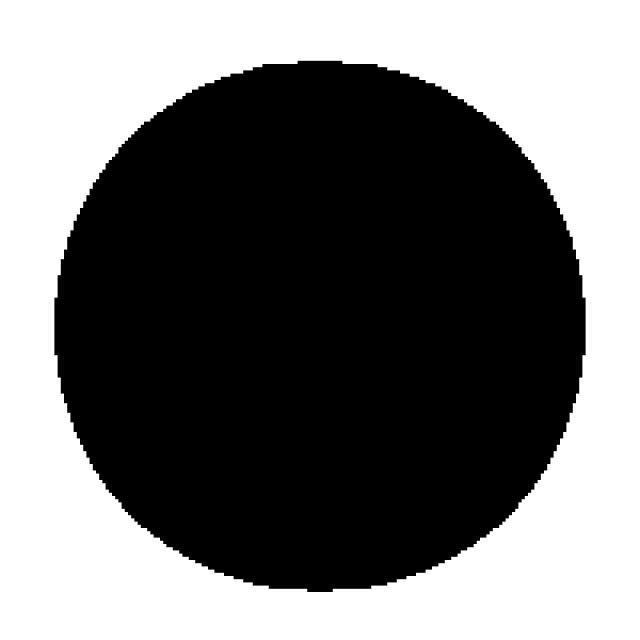Circle: (56, 61, 584, 589)
